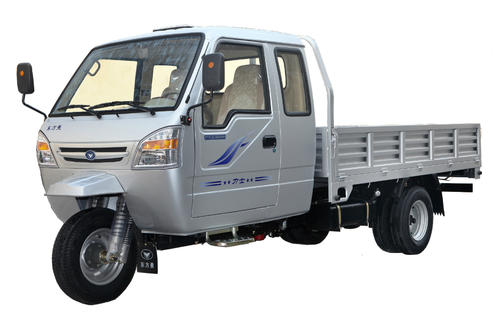tricycle: (14, 12, 477, 306)
